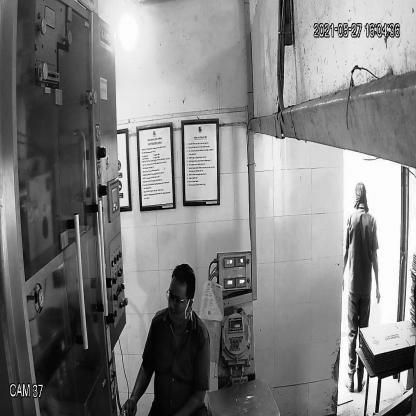goggles: (163, 287, 193, 312)
